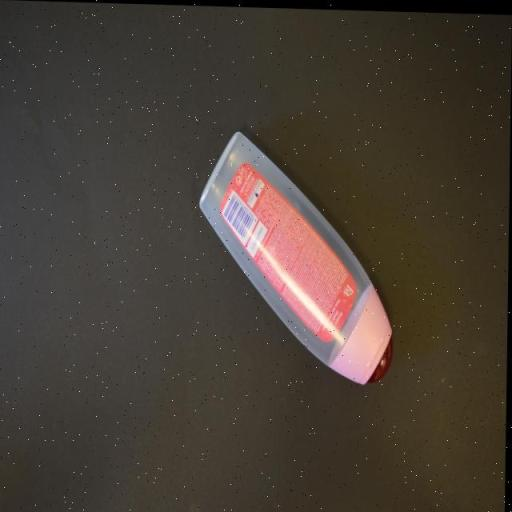plastic: (199, 124, 399, 389)
